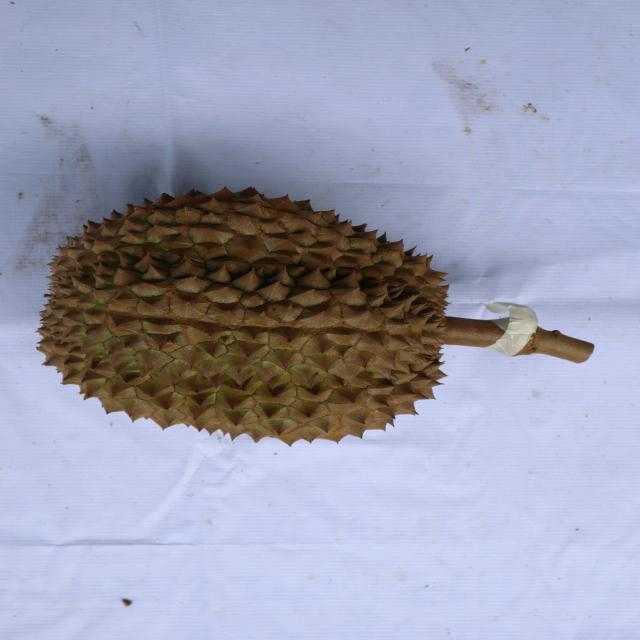mature: (36, 184, 455, 447)
